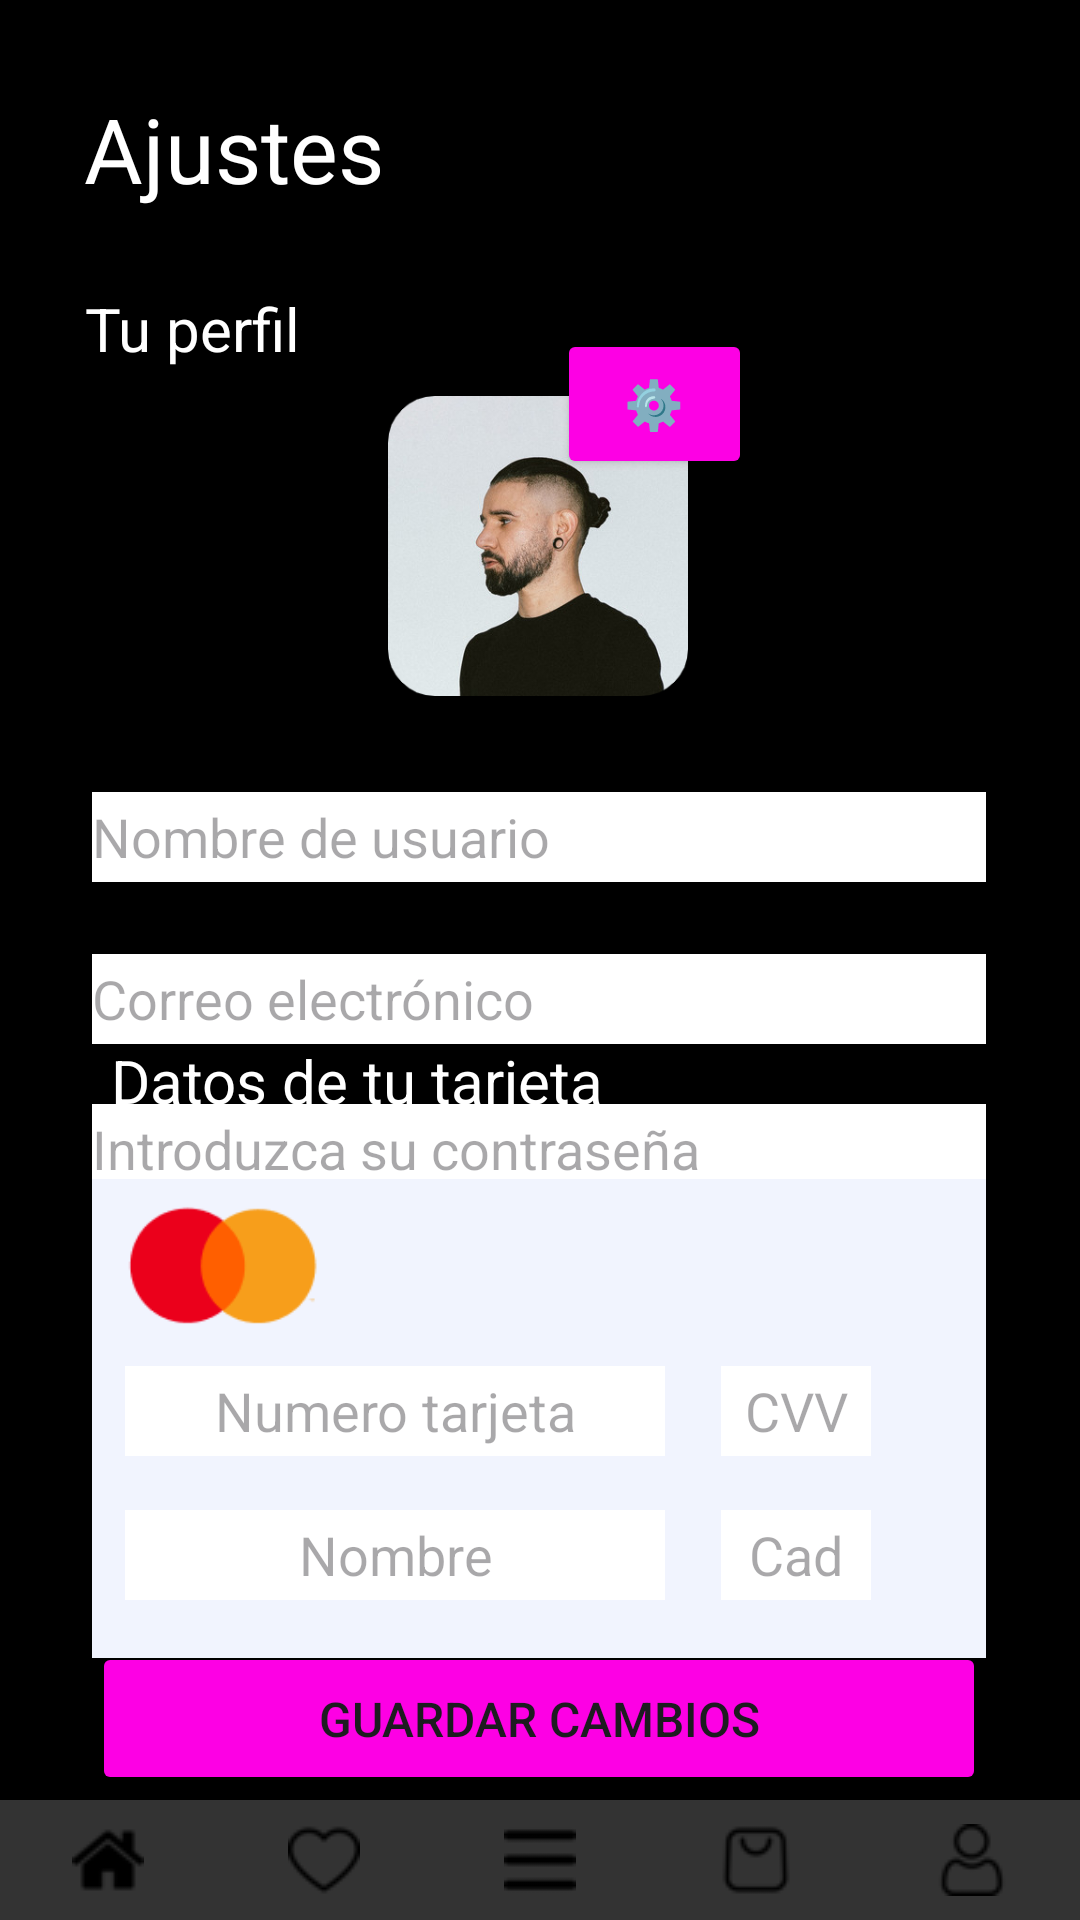

Icon click points for this 1080x1920 phone screenshot, format point (x, y):
heartpng: point (324, 1859)
homepng: point (108, 1860)
menupng: point (540, 1860)
shoppingbagpng: point (756, 1860)
userpng: point (972, 1860)
